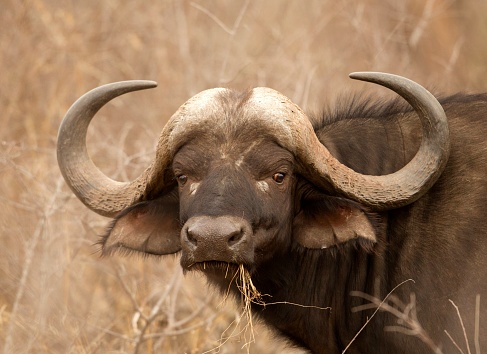buffalo: (55, 71, 484, 350)
